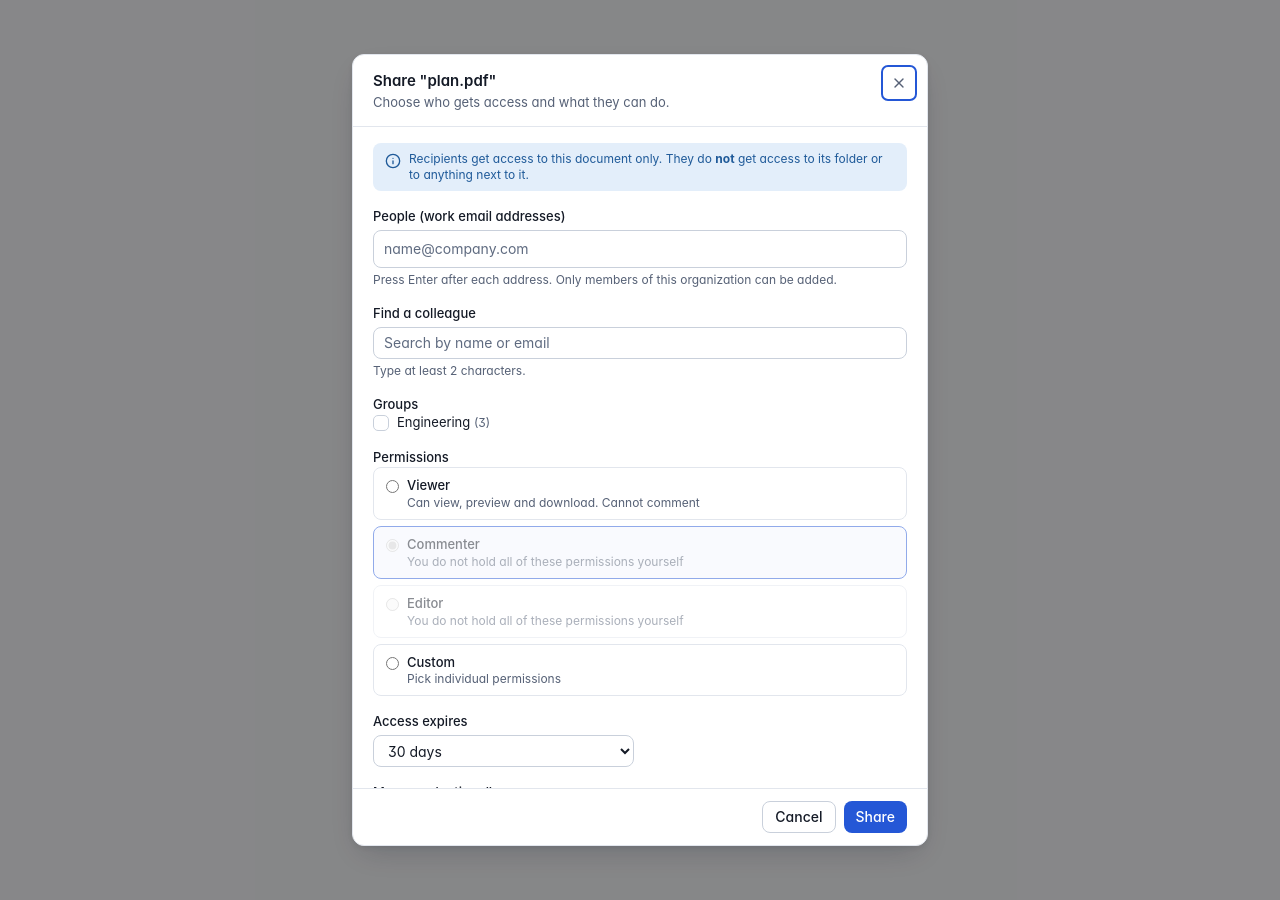
Scenario: ShareDialog › validates the email format inline
Type "not-an-email" into the field labelled "People (work email addresses)". click: (640, 249)
box: 380,237 -> 900,261
Then press Enter
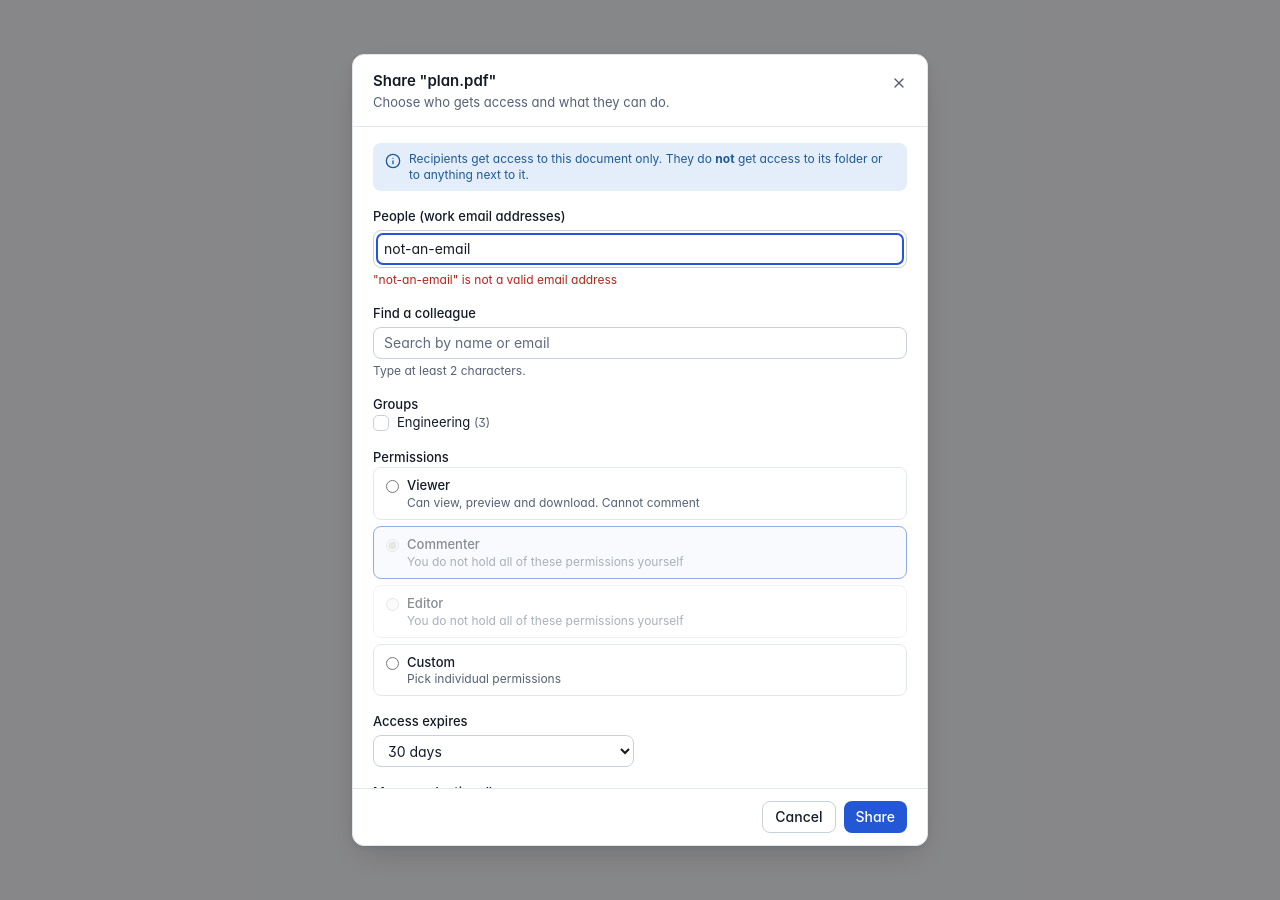
Now the text "\"not-an-email\" is not a valid email address" is shown, box 373,272 -> 617,287
